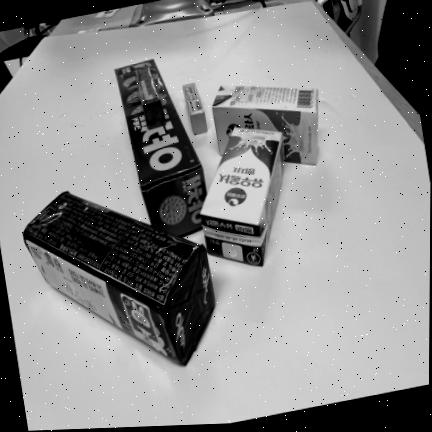cracker_ace: (23, 192, 215, 364)
cracker_vege: (115, 59, 207, 236)
gum_green: (135, 66, 165, 129)
gum_yellow: (183, 83, 207, 134)
milk_blue: (202, 128, 284, 266)
milk_green: (213, 86, 318, 164)
